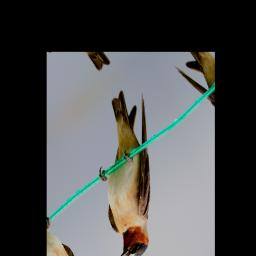Swallow: (67, 78, 194, 256)
